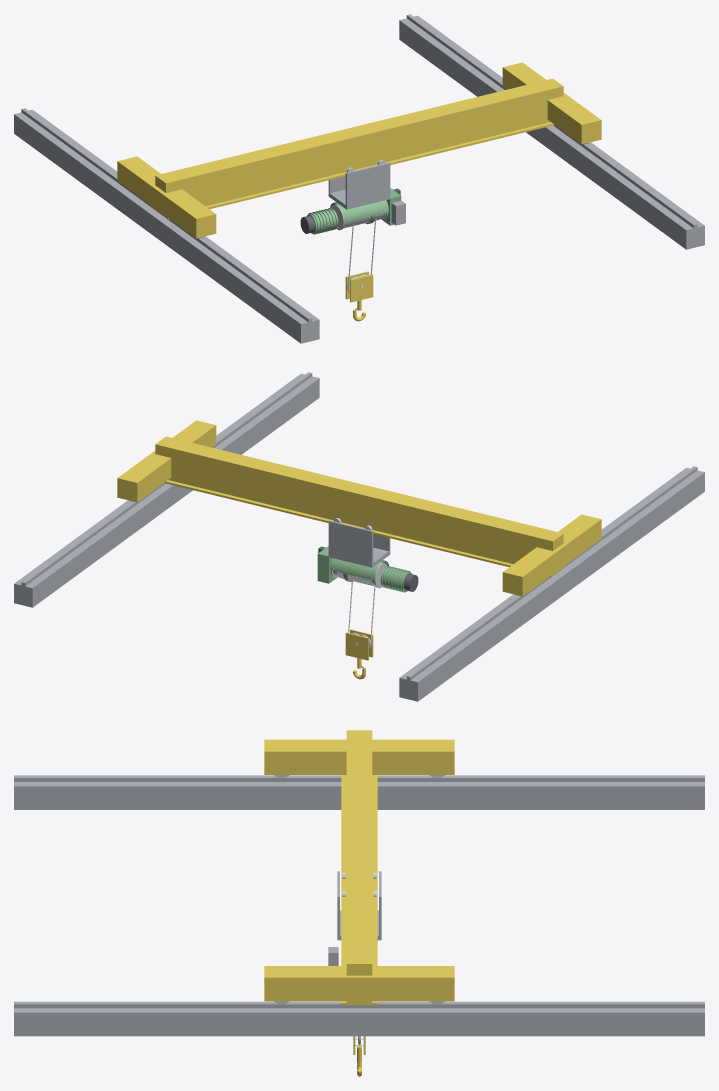
Rendered from modele.glb.
3 views of the same model, one above another, from view 1: azimuth 30°, elevation 25°; view 2: azimuth 150°, elevation 25°; view 3: azimuth 270°, elevation 25° (orthographic). The views are drawn at different scales.
Parts seen in each view (by area): view 1: chemins, poutre, sommiers, chassis_chariot, capot_tambour, moteur_levage, flasque_avant; view 2: chemins, poutre, sommiers, chassis_chariot, capot_tambour, moteur_levage, flasque_arriere; view 3: chemins, sommiers, poutre, chassis_chariot.
Part boxes in pixels (bbox=[...]): chemins: bbox=[14, 14, 704, 343]; poutre: bbox=[153, 78, 563, 219]; sommiers: bbox=[117, 62, 601, 238]; chassis_chariot: bbox=[328, 162, 390, 209]; capot_tambour: bbox=[330, 200, 389, 222]; moteur_levage: bbox=[307, 208, 338, 234]; flasque_avant: bbox=[350, 274, 373, 302]; chemins: bbox=[14, 372, 704, 701]; poutre: bbox=[155, 436, 565, 577]; sommiers: bbox=[117, 420, 601, 596]; chassis_chariot: bbox=[328, 520, 390, 567]; capot_tambour: bbox=[329, 558, 388, 580]; moteur_levage: bbox=[380, 566, 411, 592]; flasque_arriere: bbox=[345, 632, 368, 660]; chemins: bbox=[14, 775, 704, 1036]; sommiers: bbox=[264, 739, 454, 1001]; poutre: bbox=[341, 730, 377, 1005]; chassis_chariot: bbox=[337, 871, 381, 940].
Size of the model in its own units: 6.52 by 2.92 by 8.
